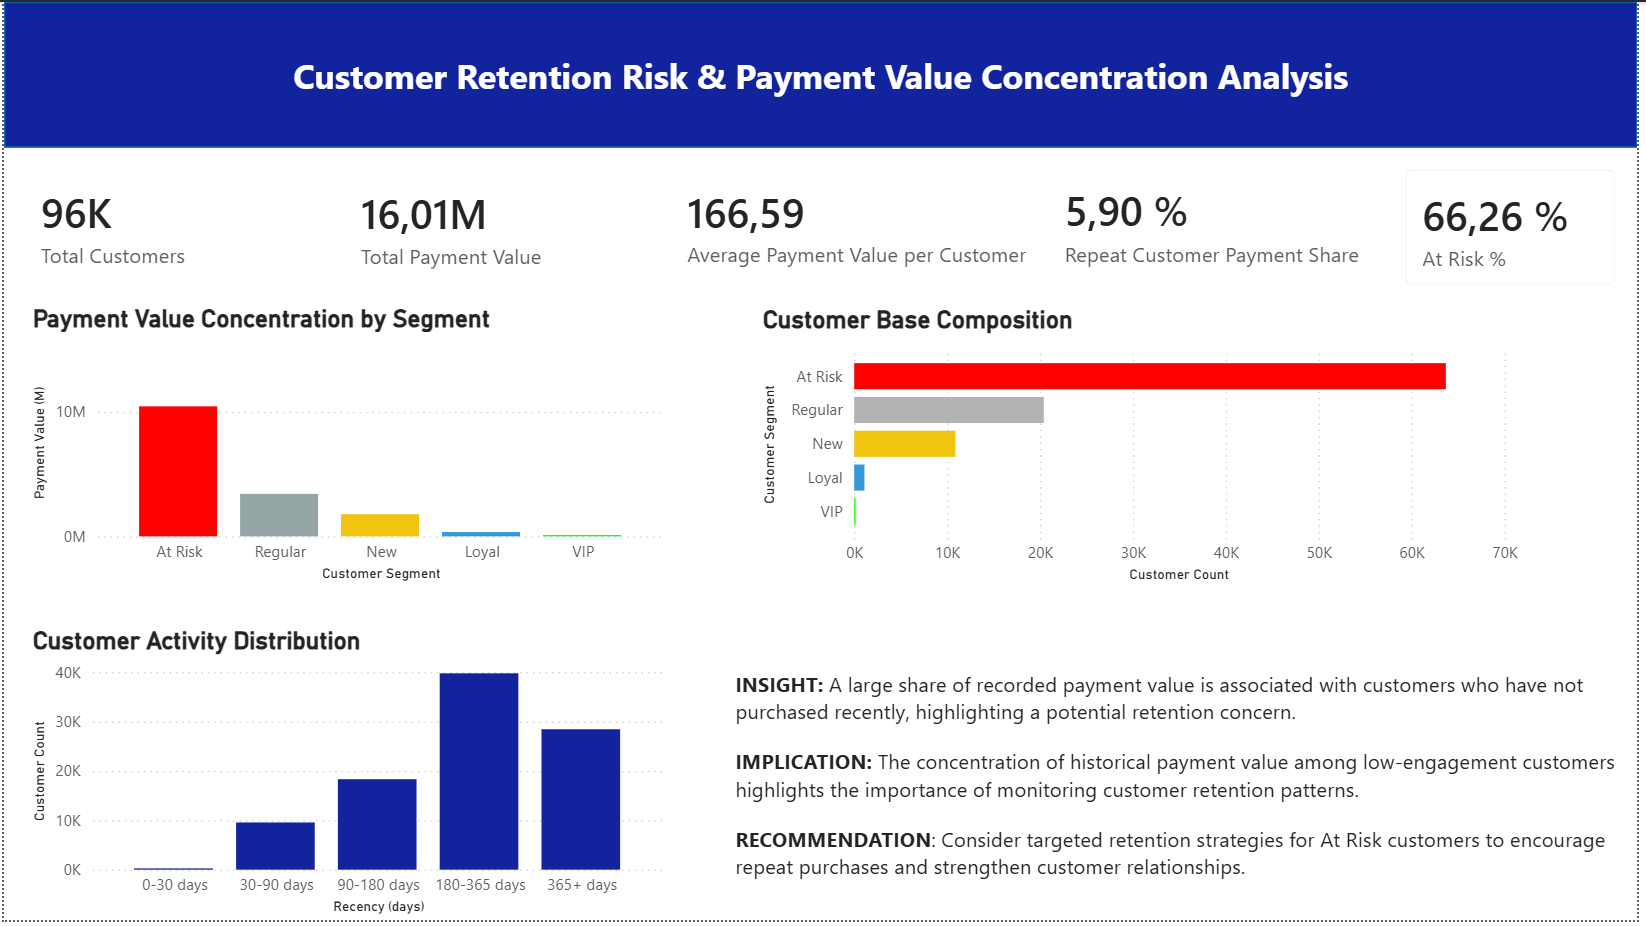

The page's visual inventory and layout, read from the dashboard file:
{"tool":"powerbi","page":{"name":"Página 1","canvas":[1280,720],"ordinal":0},"visuals":[{"type":"cardVisual","fields":{"Data":["retail_customer_intelligence rfm_segments.Total Customers"]},"box":[0,114,300,124],"z":0},{"type":"cardVisual","fields":{"Data":["retail_customer_intelligence rfm_segments.Total Revenue"]},"box":[251.2,115.1,300,123.3],"z":1000},{"type":"cardVisual","fields":{"Data":["retail_customer_intelligence rfm_segments.Avg Revenue"]},"box":[506.1,114,332.6,123.2],"z":2000},{"type":"clusteredBarChart","title":"Customer Base Composition","fields":{"Category":["retail_customer_intelligence rfm_segments.segment"],"Y":["CountNonNull(retail_customer_intelligence rfm_segments.customer_unique_id)"]},"box":[590.3,238.2,601.6,221.8],"z":3000},{"type":"clusteredColumnChart","title":"Payment Value Concentration by Segment","fields":{"Category":["retail_customer_intelligence rfm_segments.segment"],"Y":["retail_customer_intelligence rfm_segments.Total Payment Value"]},"box":[17.5,237.2,505.1,221.8],"z":4000},{"type":"lineClusteredColumnComboChart","title":"Customer Activity Distribution","fields":{"Category":["retail_customer_intelligence rfm_segments.Recency Group"],"Y":["CountNonNull(retail_customer_intelligence rfm_segments.customer_unique_id)"]},"box":[17.4,489.5,504.7,230.2],"z":5000},{"type":"cardVisual","fields":{"Data":["retail_customer_intelligence rfm_segments.Repeat Revenue Share"]},"box":[802.8,112.9,289.5,124.4],"z":6000},{"type":"shape","box":[0,0,1280.4,114.2],"z":7000},{"type":"textbox","box":[568.6,501.2,711.6,218.6],"z":8000},{"type":"cardVisual","fields":{"Data":["retail_customer_intelligence rfm_segments.At Risk %"]},"box":[1082.1,115,198.1,124.2],"z":9000}]}

Visuals, with their boxes in screenshot pixels (x1, y1, x2, y2), scaled from the page's 1280x720 canvas onto the 1646x927 screenshot:
cardVisual - retail_customer_intelligence rfm_segments.Total Customers: (left=0, top=147, right=386, bottom=306)
cardVisual - retail_customer_intelligence rfm_segments.Total Revenue: (left=323, top=148, right=709, bottom=307)
cardVisual - retail_customer_intelligence rfm_segments.Avg Revenue: (left=651, top=147, right=1079, bottom=305)
"Customer Base Composition" clusteredBarChart: (left=759, top=307, right=1533, bottom=592)
"Payment Value Concentration by Segment" clusteredColumnChart: (left=23, top=305, right=672, bottom=591)
"Customer Activity Distribution" lineClusteredColumnComboChart: (left=22, top=630, right=671, bottom=926)
cardVisual - retail_customer_intelligence rfm_segments.Repeat Revenue Share: (left=1032, top=145, right=1405, bottom=306)
shape: (left=0, top=0, right=1645, bottom=147)
textbox: (left=731, top=645, right=1645, bottom=926)
cardVisual - retail_customer_intelligence rfm_segments.At Risk %: (left=1392, top=148, right=1645, bottom=308)
